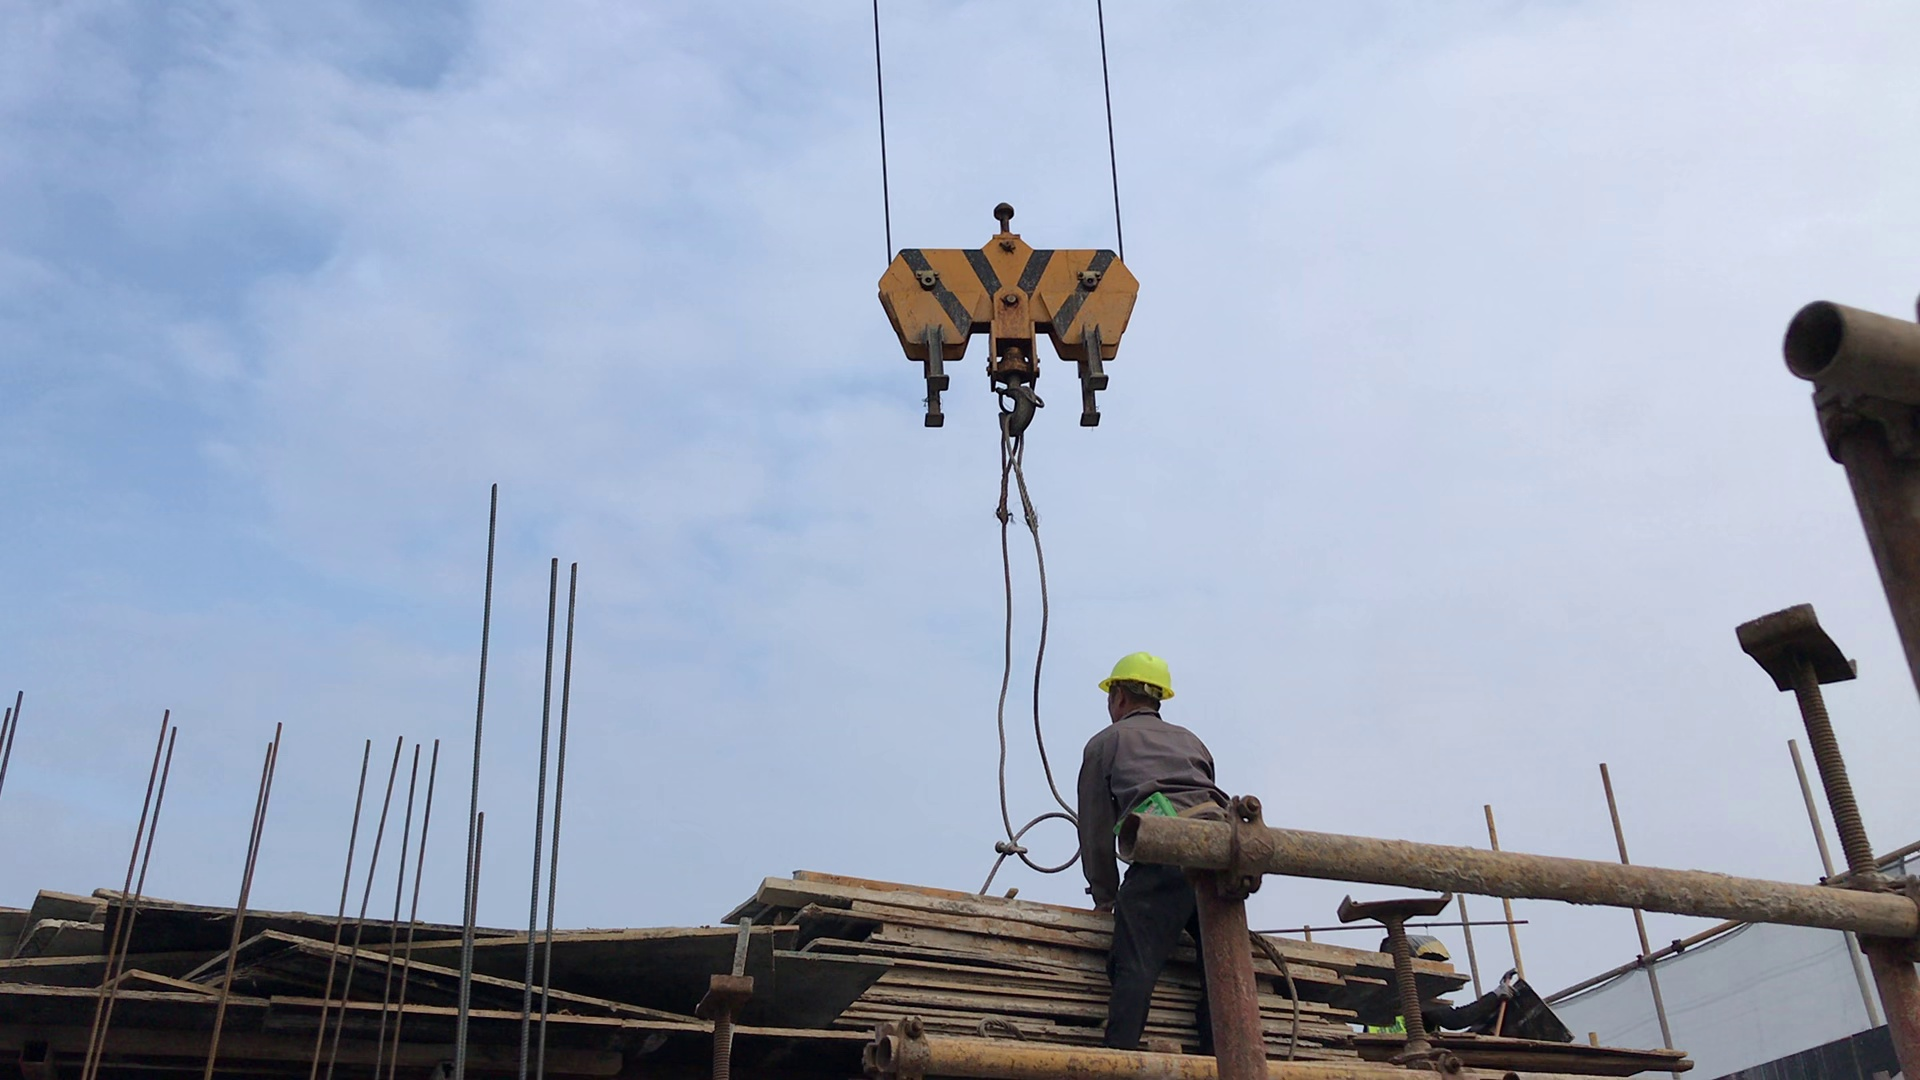board: (771, 861, 1444, 1061)
helmet: (1098, 653, 1171, 696)
hook: (875, 204, 1138, 433)
person: (1078, 651, 1266, 1057)
